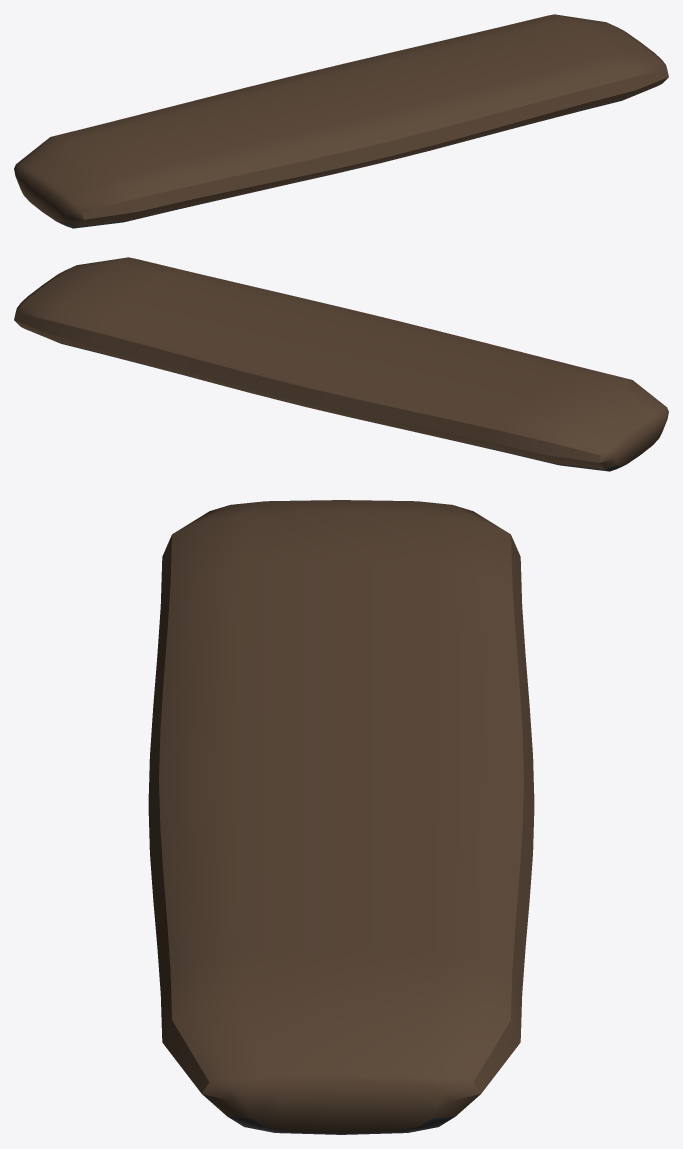
The model's file is bench_lod1.glb.
3 renders of one model, top to bottom at view 1: azimuth 30°, elevation 25°; view 2: azimuth 150°, elevation 25°; view 3: azimuth 270°, elevation 25°, orthographic. The views are drawn at different scales.
Parts seen in each view (by area): view 1: bench_lod1; view 2: bench_lod1; view 3: bench_lod1.
Part boxes in pixels (left/top/right/bottom): bench_lod1: left=14, top=14, right=668, bottom=228; bench_lod1: left=14, top=257, right=668, bottom=471; bench_lod1: left=148, top=500, right=534, bottom=1134.
Size of the model in its own units: 1 by 0.075 by 0.2799.
